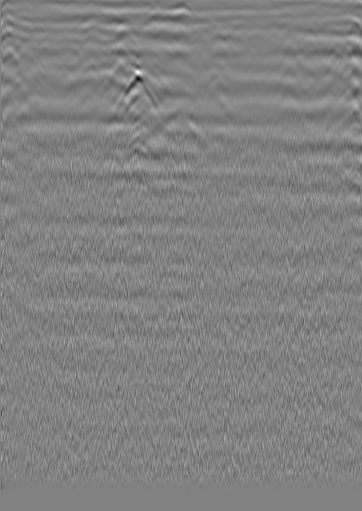가스: (106, 72, 156, 126)
상수: (317, 9, 337, 29)
오수: (39, 7, 59, 27)
우수: (176, 5, 196, 25)
